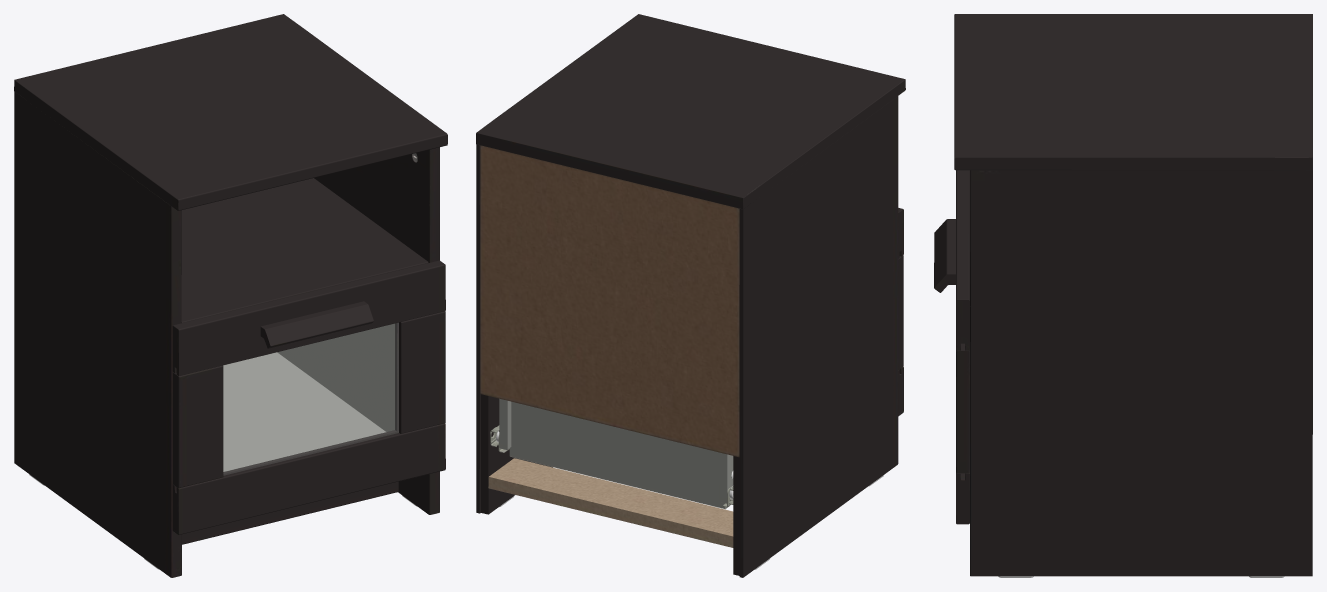
Rendered from BRIMNES nightstand.glb.
3 views of the same model, side by side, from view 1: azimuth 30°, elevation 25°; view 2: azimuth 150°, elevation 25°; view 3: azimuth 270°, elevation 25° (orthographic). The views are drawn at different scales.
Parts seen in each view (by area): view 1: 1, 2; view 2: 1; view 3: 1.
Part boxes in pixels (x1,y1,x2,y2): 1: (14,14,447,577); 2: (29,323,416,569); 1: (476,14,905,577); 1: (934,14,1312,576).
Size of the model in its own units: 0.3911 by 0.5341 by 0.4352.
Materials: 2 (2 with a texture image).
